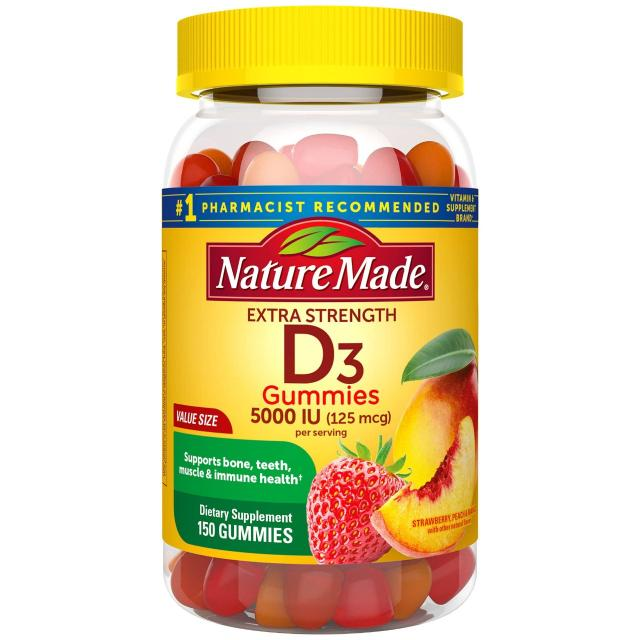medicine: (167, 130, 485, 550)
